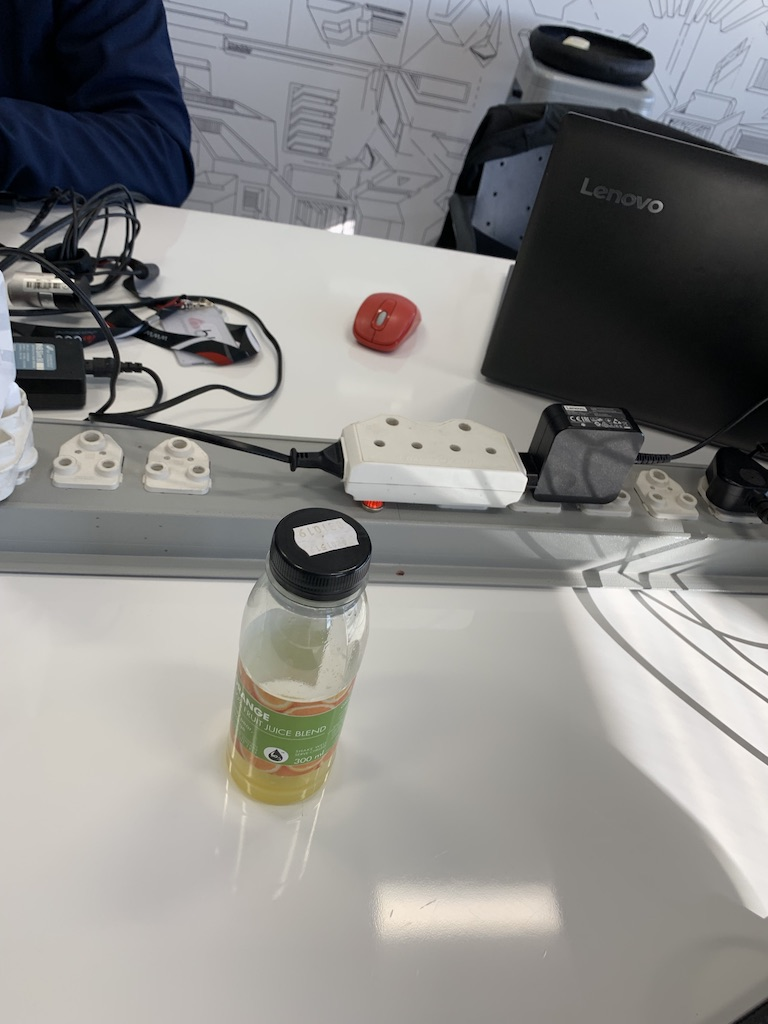bottle: (187, 483, 383, 837)
